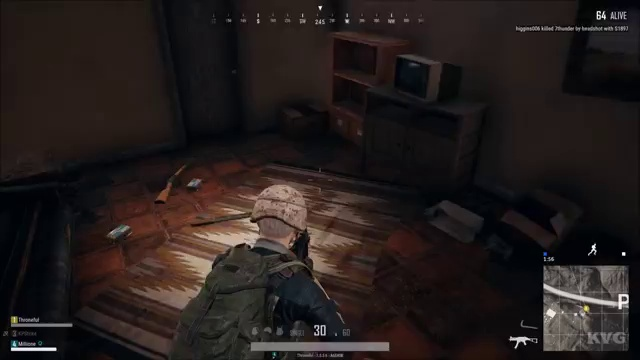Player: (163, 176, 361, 315)
